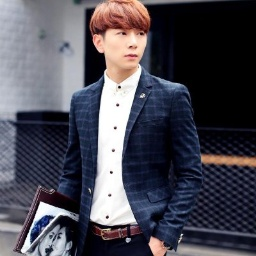face: (89, 1, 151, 71)
